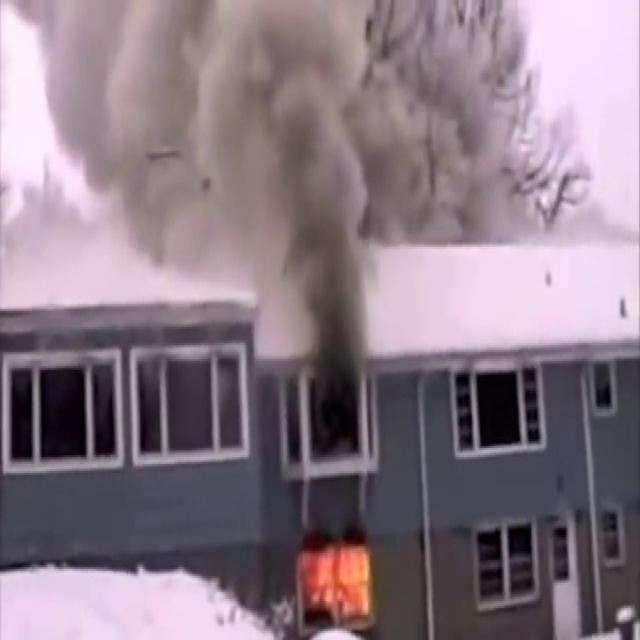Smoke: (0, 0, 389, 306)
